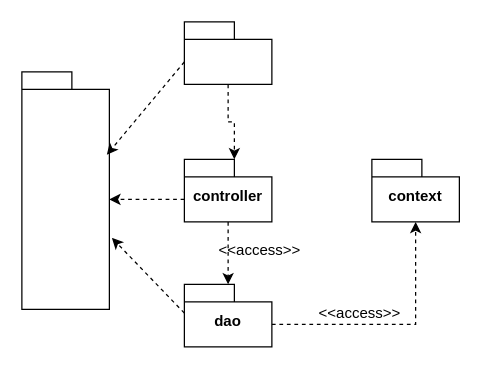
This 481x369 diagram has some shape labels left out. The shapes that lost their labels are listed below. From the top down, each one's centre as x and y in pixels, then its label:
the point at 227,52: UI
the point at 65,190: bean
